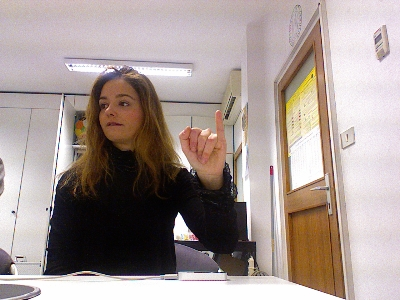小指: (177, 108, 226, 173)
